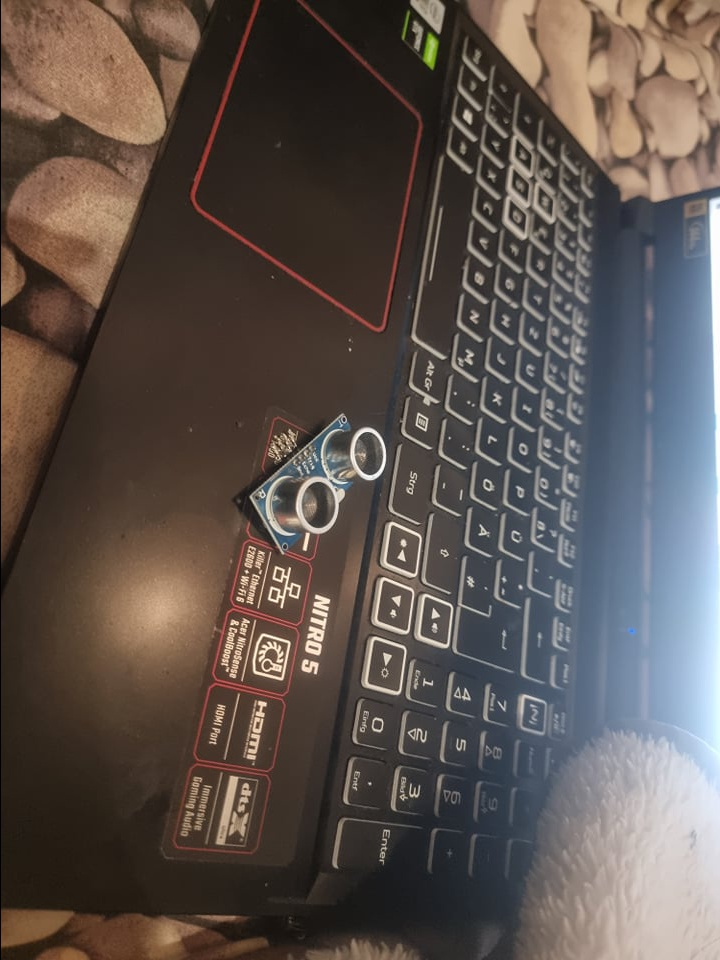SENSOR: (246, 412, 388, 554)
